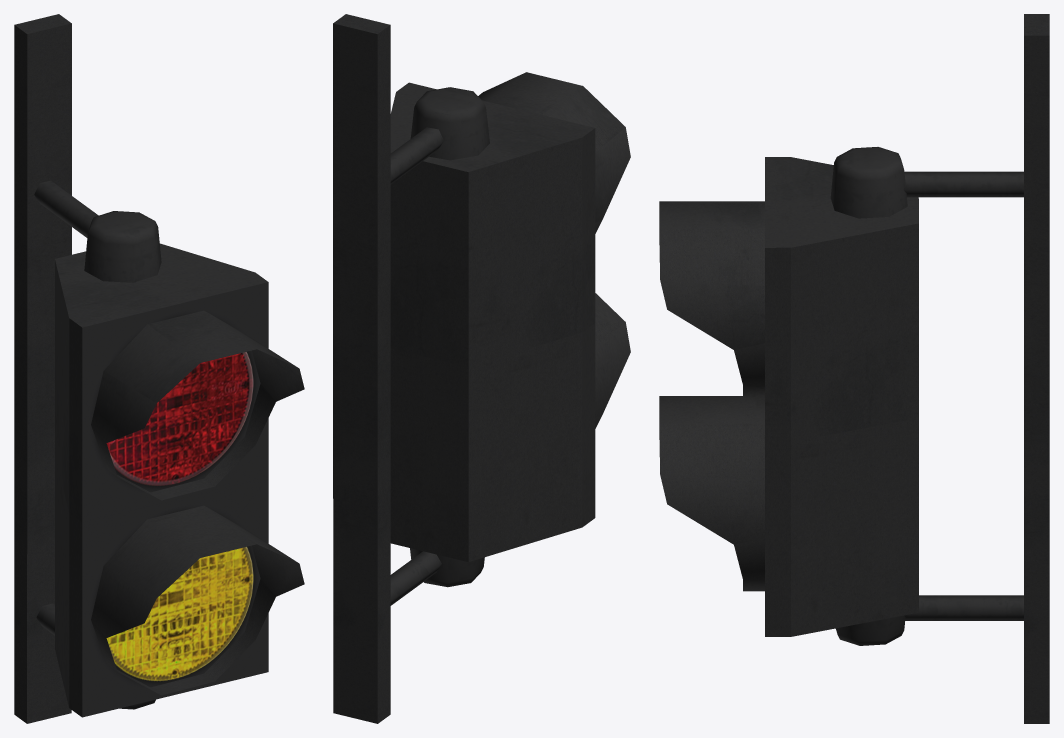
The model's file is Light_set_009.FBX.
3 renders of one model, left to right at view 1: azimuth 30°, elevation 25°; view 2: azimuth 150°, elevation 25°; view 3: azimuth 270°, elevation 25°, orthographic.
Visible parts, largest first — view 1: Light_set_009; view 2: Light_set_009; view 3: Light_set_009.
Boxes of the visible parts, x1,y1,x2,y2 form: Light_set_009: (14,14,304,723); Light_set_009: (333,14,630,723); Light_set_009: (659,14,1049,723).
Bounding box in the file's own units: 0.2507 × 0.8864 × 0.4559.
